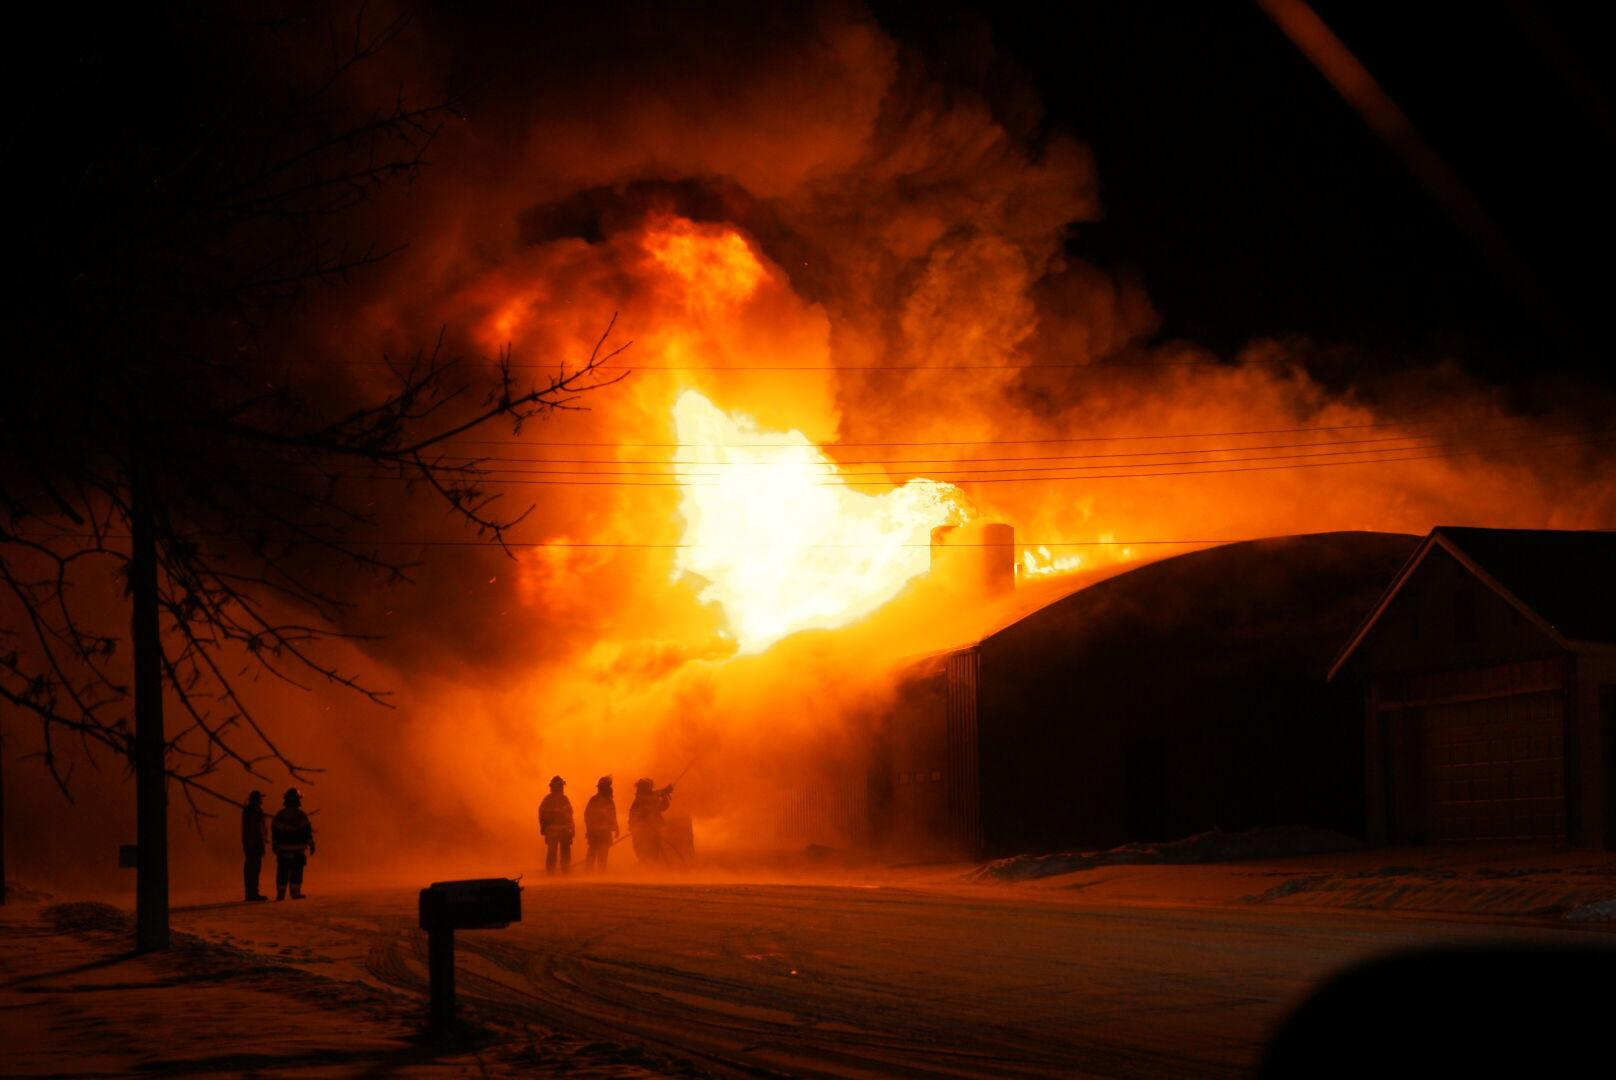Fire: (625, 334, 987, 639)
